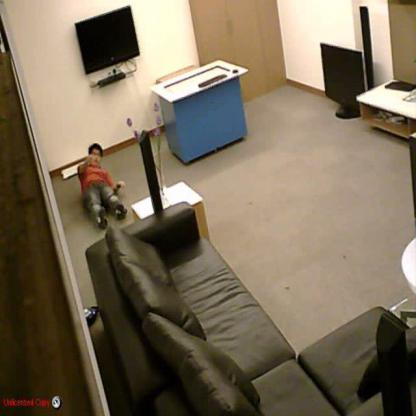Person: (77, 144, 128, 228)
